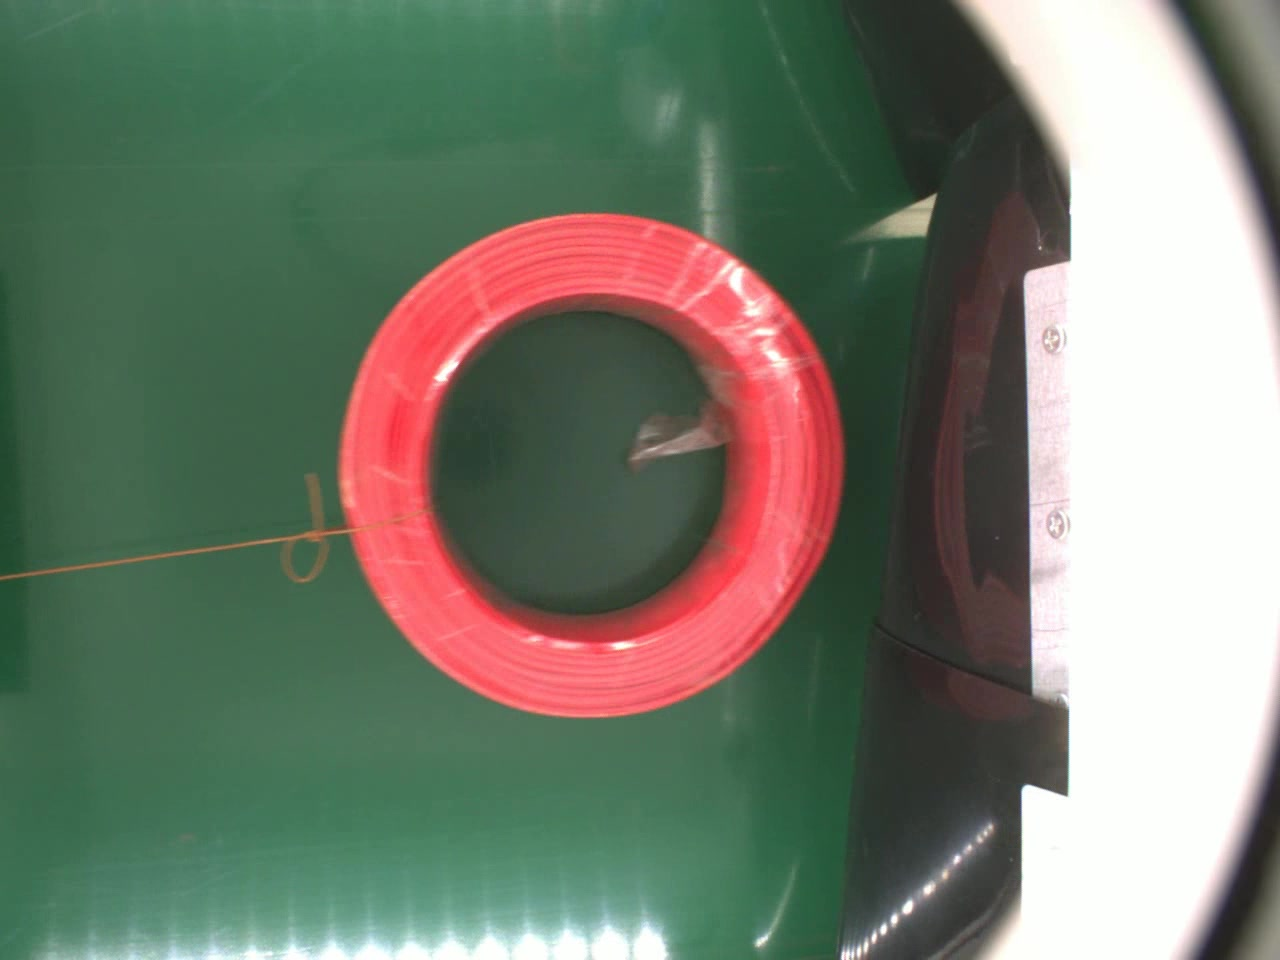red: (334, 211, 845, 722)
